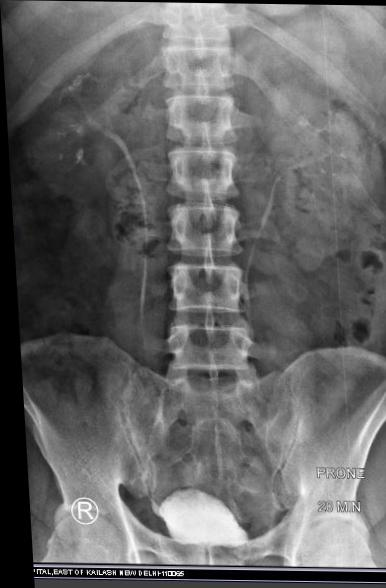bladder: (138, 456, 259, 546)
right kidney: (13, 41, 153, 208)
vertebrae: (161, 92, 236, 146)
